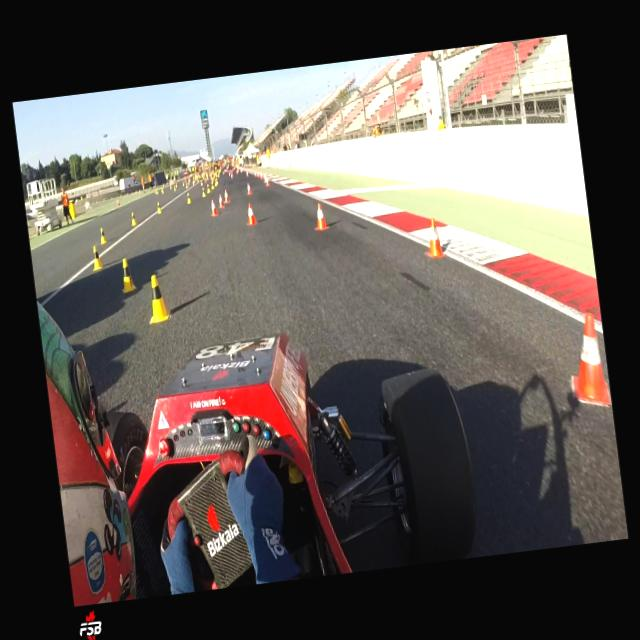orange_cone: (564, 311, 610, 408), (420, 216, 444, 259), (310, 200, 330, 230), (244, 202, 257, 225), (208, 198, 218, 216), (216, 192, 224, 208), (222, 189, 230, 203), (245, 181, 252, 194), (264, 176, 270, 186), (262, 172, 266, 182), (256, 170, 260, 178), (116, 198, 119, 206), (260, 170, 262, 178), (246, 170, 248, 177), (254, 170, 256, 177)
yellow_cone: (144, 272, 170, 322), (118, 256, 137, 294), (89, 244, 102, 271), (98, 226, 107, 244), (129, 210, 136, 226), (156, 202, 162, 214), (185, 192, 191, 204), (200, 186, 206, 198), (205, 183, 210, 193), (210, 180, 214, 188), (215, 176, 218, 184), (215, 178, 217, 185), (214, 180, 216, 187)
